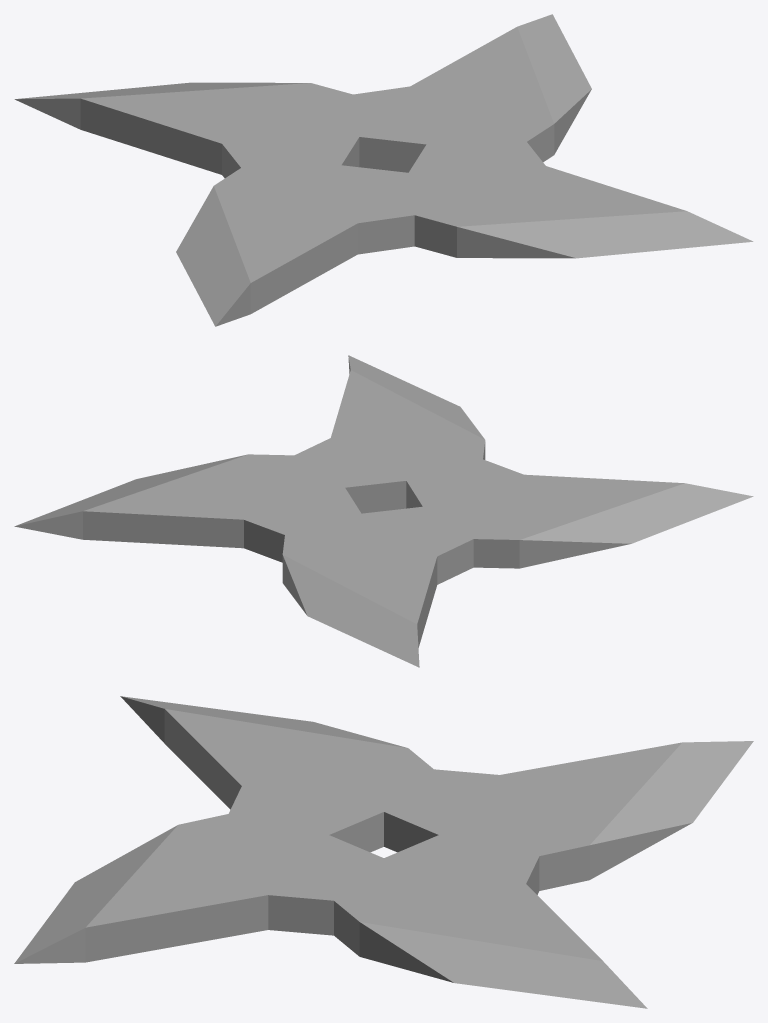
Rendered from Curved 4 Point Shuriken - Textured Low Poly Asian Weapon Pack by Kickin It Studios.fbx.
3 renders of one model, top to bottom at view 1: azimuth 30°, elevation 25°; view 2: azimuth 150°, elevation 25°; view 3: azimuth 270°, elevation 25°, orthographic. The views are drawn at different scales.
Parts seen in each view (by area): view 1: Curved 4 Point Shuriken; view 2: Curved 4 Point Shuriken; view 3: Curved 4 Point Shuriken.
Part boxes in pixels (x1,y1,x2,y2): Curved 4 Point Shuriken: [14, 14, 753, 326]; Curved 4 Point Shuriken: [14, 355, 753, 667]; Curved 4 Point Shuriken: [14, 696, 753, 1008].
Size of the model in its own units: 99.32 by 5.17 by 99.32.
